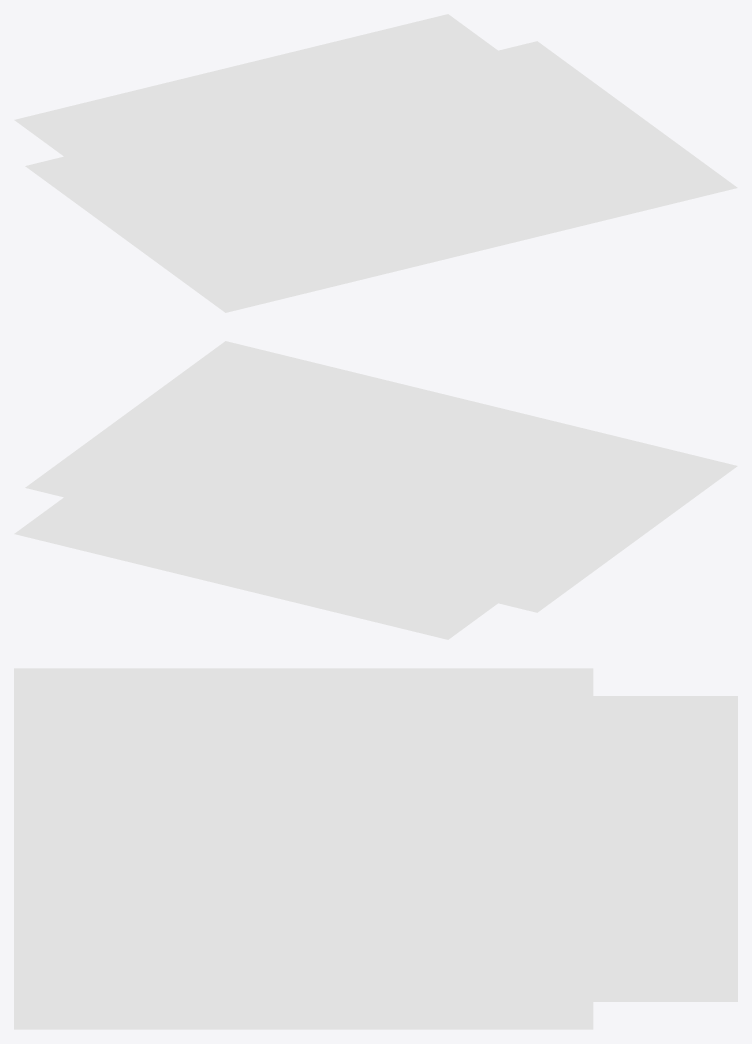
File: Roads2.fbx
3 renders of one model, top to bottom at view 1: azimuth 30°, elevation 25°; view 2: azimuth 150°, elevation 25°; view 3: azimuth 270°, elevation 25°, orthographic. The views are drawn at different scales.
Parts seen in each view (by area): view 1: Roads8, Roads4, Roads5, Roads7, Roads6; view 2: Roads8, Roads4, Roads6, Roads5, Roads7; view 3: Roads8, Roads4, Roads5, Roads7, Roads6.
Boxes of the visible parts, x1,y1,x2,y2 form: Roads8: (25, 41, 654, 312); Roads4: (323, 14, 698, 253); Roads5: (139, 44, 492, 257); Roads7: (14, 89, 490, 260); Roads6: (451, 124, 737, 254); Roads8: (25, 399, 737, 612); Roads4: (14, 350, 510, 564); Roads6: (129, 341, 480, 414); Roads5: (139, 395, 523, 609); Roads7: (323, 393, 536, 639); Roads8: (14, 668, 593, 1029); Roads4: (14, 832, 737, 1001); Roads5: (593, 784, 737, 913); Roads7: (14, 696, 737, 865); Roads6: (14, 844, 303, 1029).
Bounding box in the file's own units: 2926 × 0.0017 × 2480.
